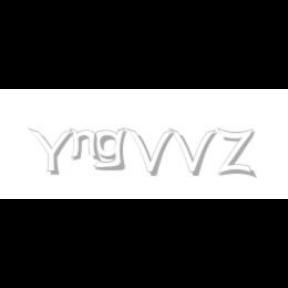V: (127, 128, 175, 176), (169, 128, 217, 176)
Y: (28, 128, 74, 176)
Z: (217, 128, 254, 178)
g: (94, 128, 130, 171)
n: (68, 128, 102, 162)
